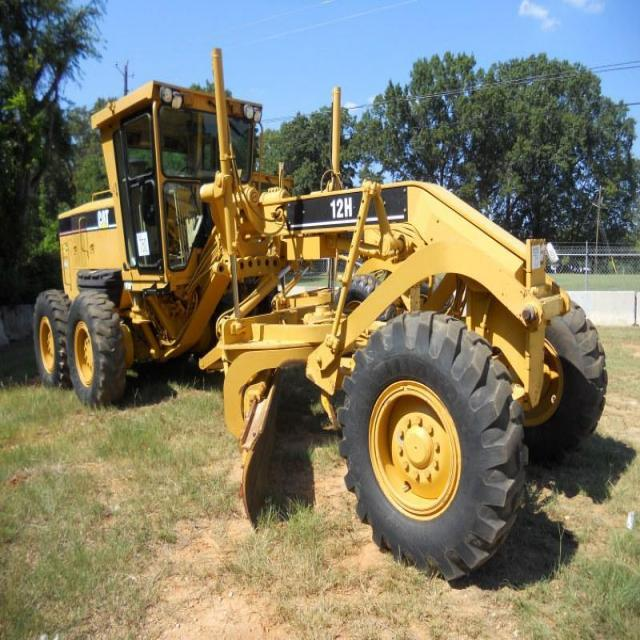Grader: (17, 70, 614, 580)
